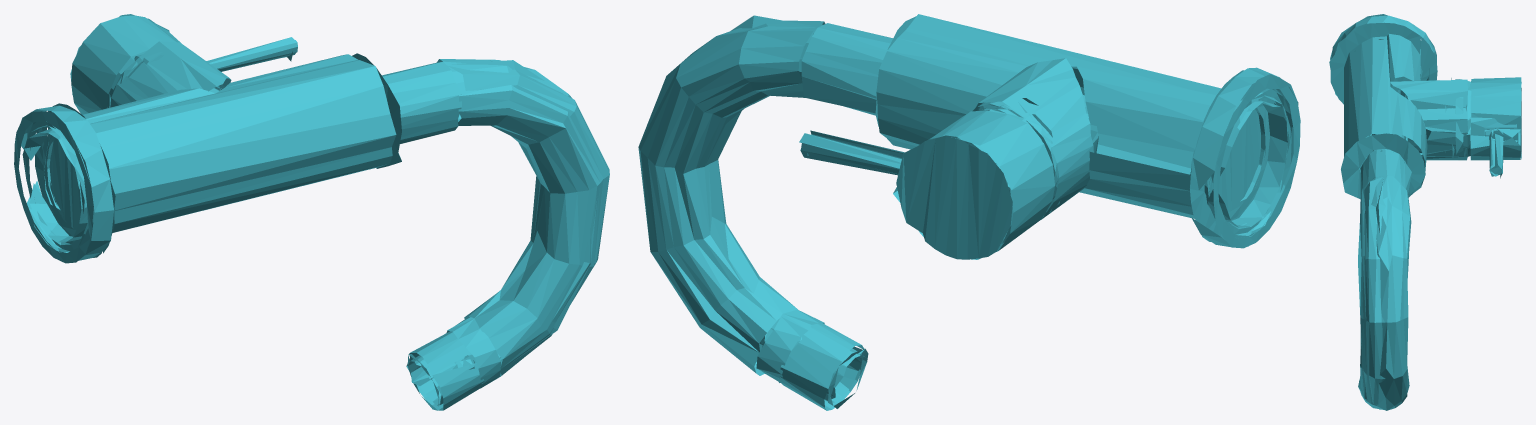
3 views of the same model, side by side, from view 1: azimuth 30°, elevation 25°; view 2: azimuth 150°, elevation 25°; view 3: azimuth 270°, elevation 25° (orthographic). The views are drawn at different scales.
Parts seen in each view (by area): view 1: Renderer Node; view 2: Renderer Node; view 3: Renderer Node.
Part boxes in pixels (<box>): Renderer Node: <box>14,14,609,410</box>; Renderer Node: <box>638,14,1300,410</box>; Renderer Node: <box>1329,14,1521,410</box>.
Size of the model in its own units: 0.7821 by 0.5277 by 0.3486.
1 material, 1 textured.
